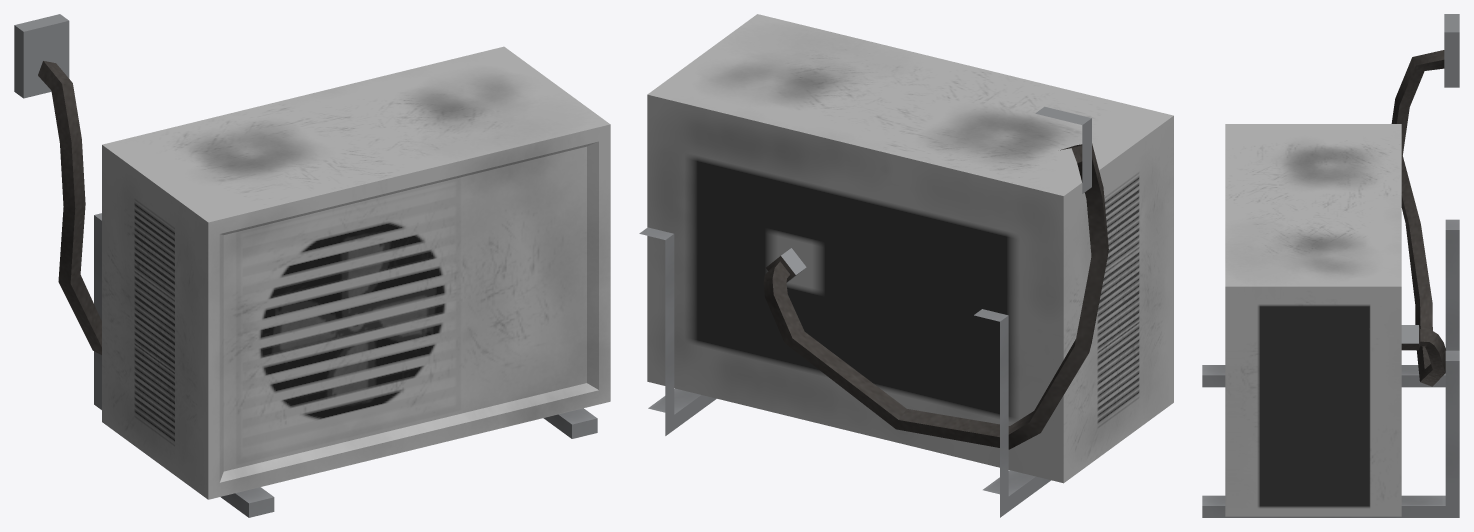
File: airconditioner1.glb
3 views of the same model, side by side, from view 1: azimuth 30°, elevation 25°; view 2: azimuth 150°, elevation 25°; view 3: azimuth 270°, elevation 25° (orthographic). The views are drawn at different scales.
Visible parts, largest first — view 1: SM_AirConditioner_1; view 2: SM_AirConditioner_1; view 3: SM_AirConditioner_1.
Boxes of the visible parts, x1,y1,x2,y2 form: SM_AirConditioner_1: [14, 14, 610, 517]; SM_AirConditioner_1: [639, 14, 1173, 517]; SM_AirConditioner_1: [1202, 14, 1459, 517].
Size of the model in its own units: 1.05 by 0.8777 by 0.6181.
Materials: 1 (1 with a texture image).
